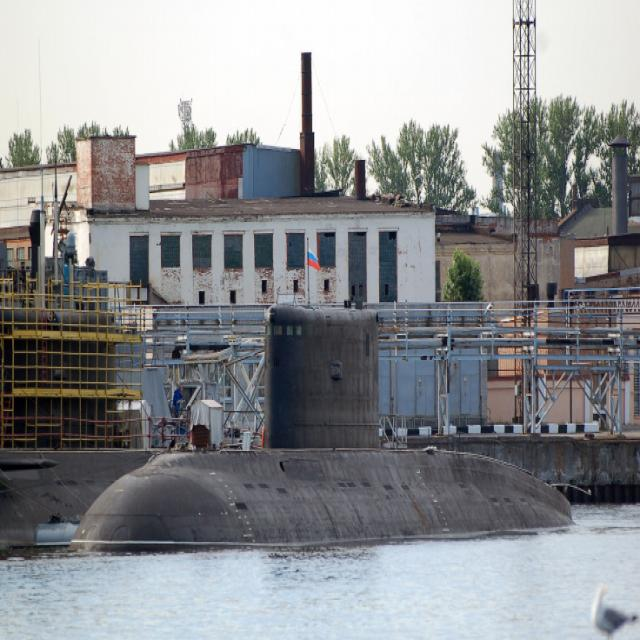submarine: (69, 304, 576, 553)
